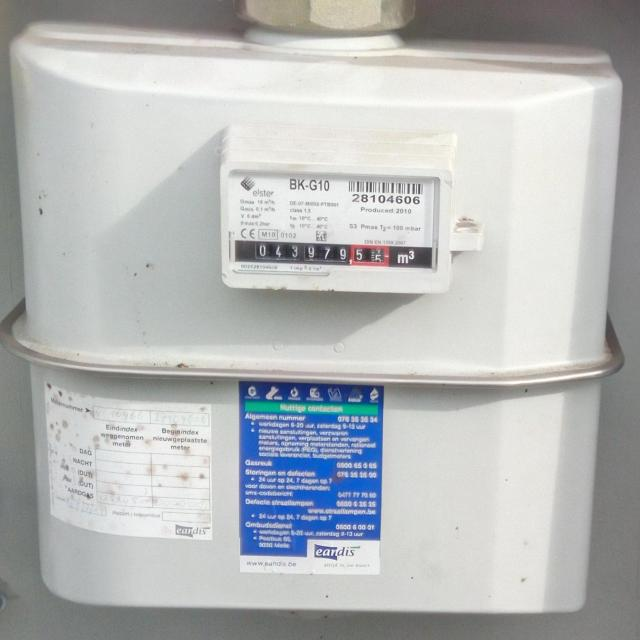gaz_meter: (230, 165, 443, 275)
indication: (236, 239, 393, 265)
